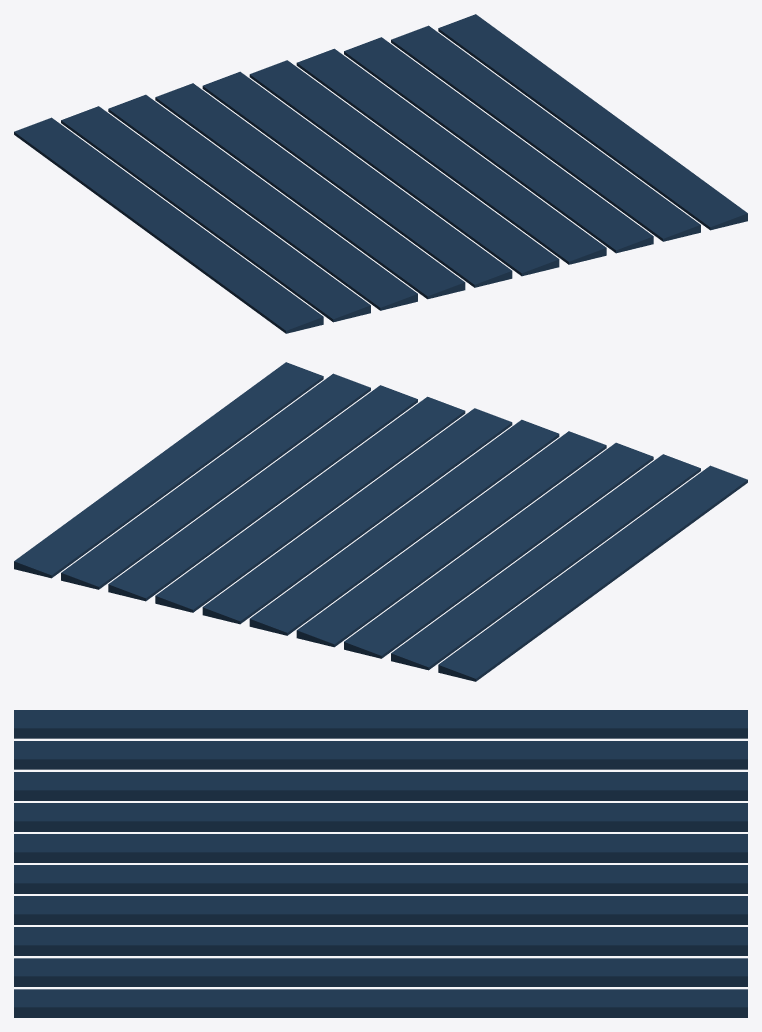
The model's file is far.fbx.
3 views of the same model, one above another, from view 1: azimuth 30°, elevation 25°; view 2: azimuth 150°, elevation 25°; view 3: azimuth 270°, elevation 25° (orthographic). The views are drawn at different scales.
Parts seen in each view (by area): view 1: a1054/0/far; view 2: a1054/0/far; view 3: a1054/0/far.
Part boxes in pixels (left/top/right/bottom): a1054/0/far: left=14, top=14, right=747, bottom=333; a1054/0/far: left=14, top=362, right=747, bottom=681; a1054/0/far: left=14, top=710, right=747, bottom=1017.
Bounding box in the file's own units: 49 × 0.8 × 50.
